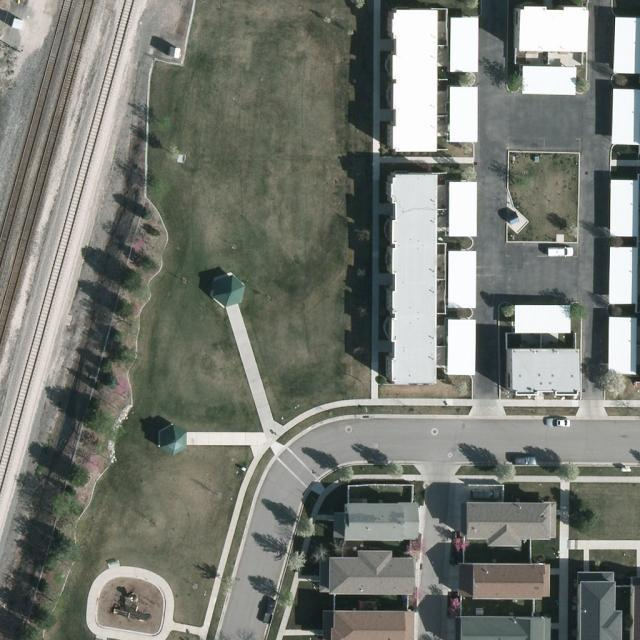vehicle: (468, 489, 506, 502), (262, 598, 277, 626), (511, 457, 538, 466), (545, 418, 573, 426), (547, 248, 574, 255)
